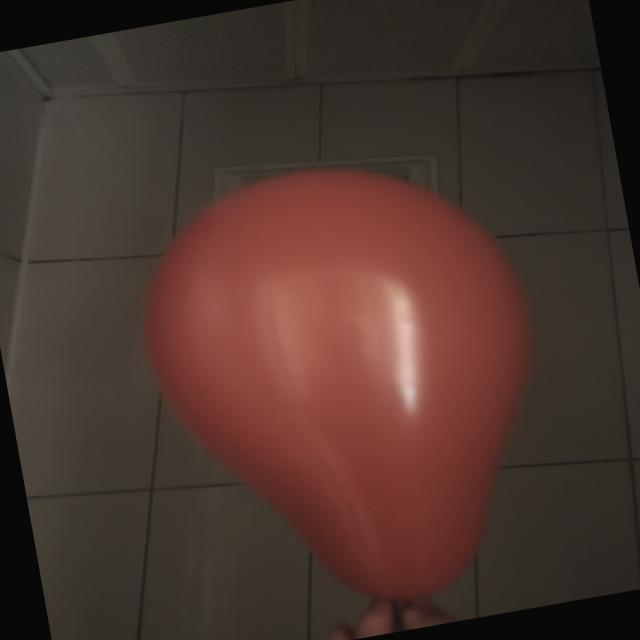balloon: (146, 168, 533, 600), (392, 323, 392, 324)
